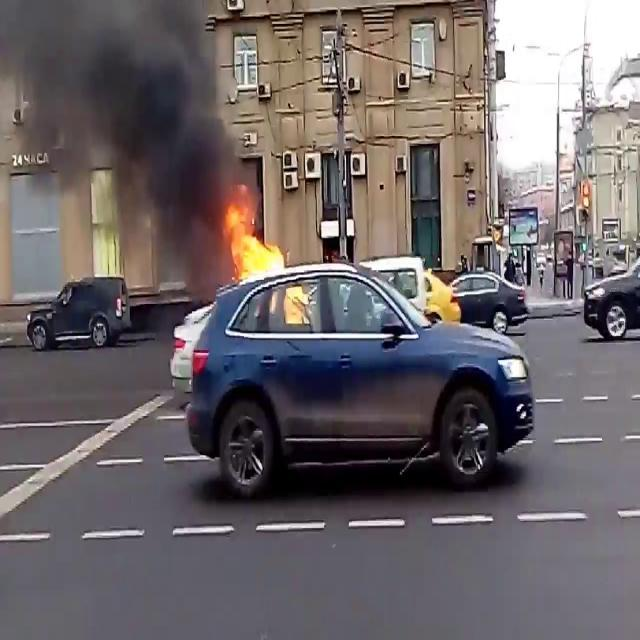Fire: (222, 190, 290, 284)
Smoke: (0, 0, 240, 278)
